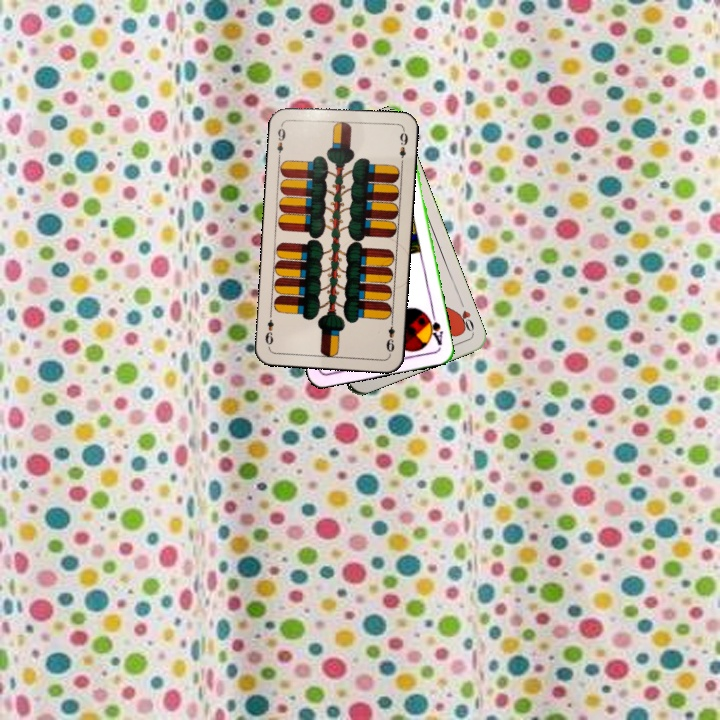E9: (382, 316, 398, 356), (273, 120, 288, 160)
HO: (452, 296, 477, 335)
SA: (422, 308, 446, 348)
